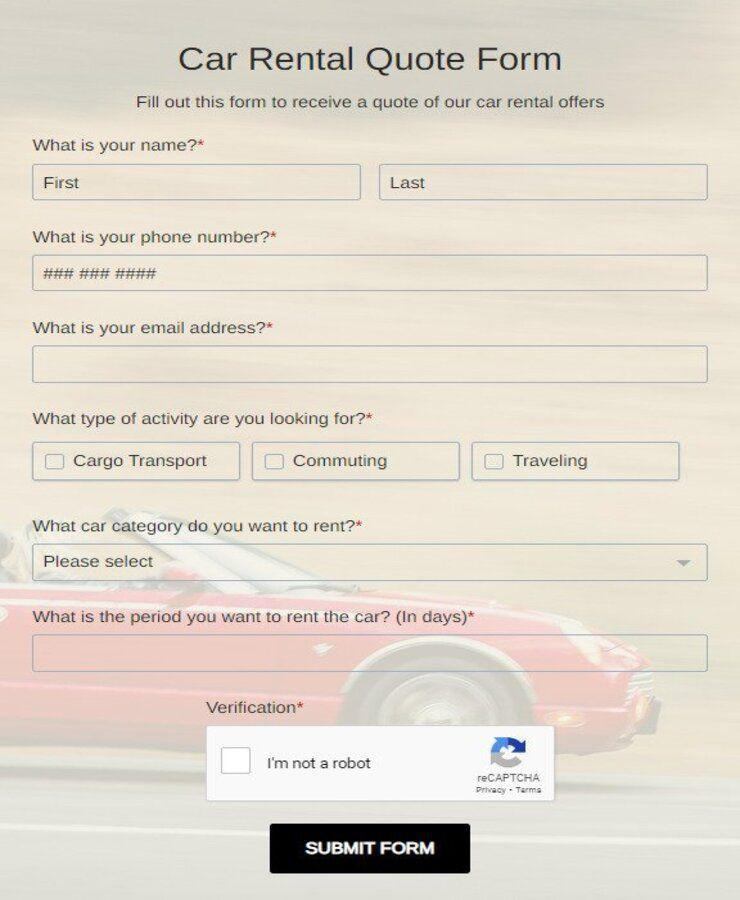button: (269, 823, 472, 874)
checkbox: (220, 747, 253, 777), (484, 454, 507, 473), (45, 454, 67, 473), (265, 454, 286, 472)
dropdown: (32, 544, 710, 583)
input: (32, 634, 709, 674), (33, 347, 709, 384), (34, 257, 708, 291), (34, 164, 362, 201), (380, 165, 708, 201)
label: (30, 606, 482, 630), (31, 517, 367, 540), (32, 410, 376, 430), (32, 317, 277, 340), (32, 230, 282, 252), (31, 135, 207, 160), (263, 752, 380, 778), (74, 453, 211, 472), (205, 699, 308, 718), (512, 451, 595, 474), (291, 456, 395, 471)
